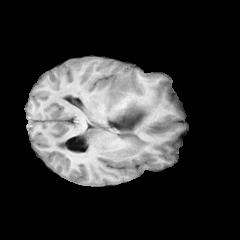glioma: (104, 72, 149, 135)
